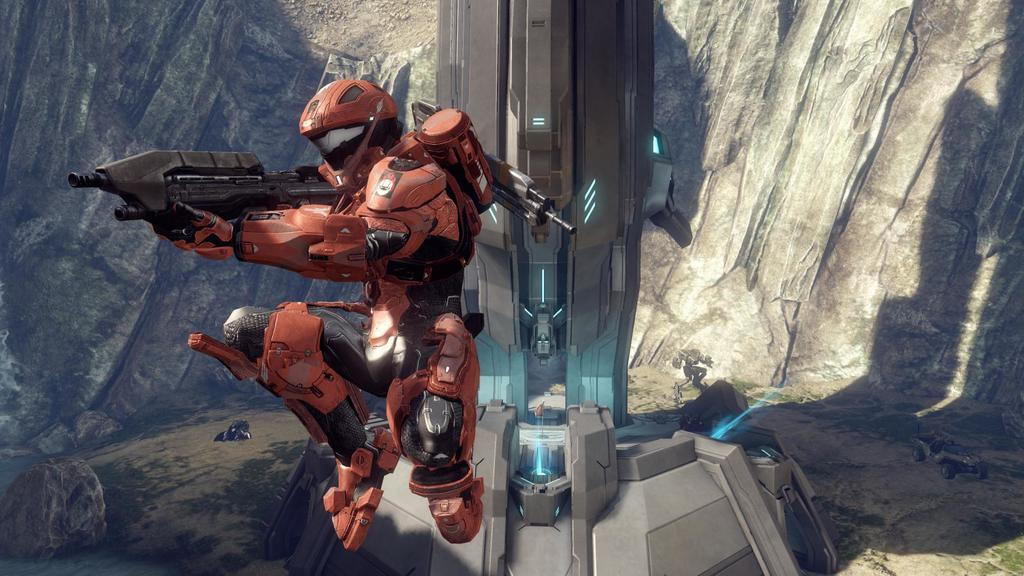Rifle: (70, 147, 337, 243), (419, 102, 572, 228)
